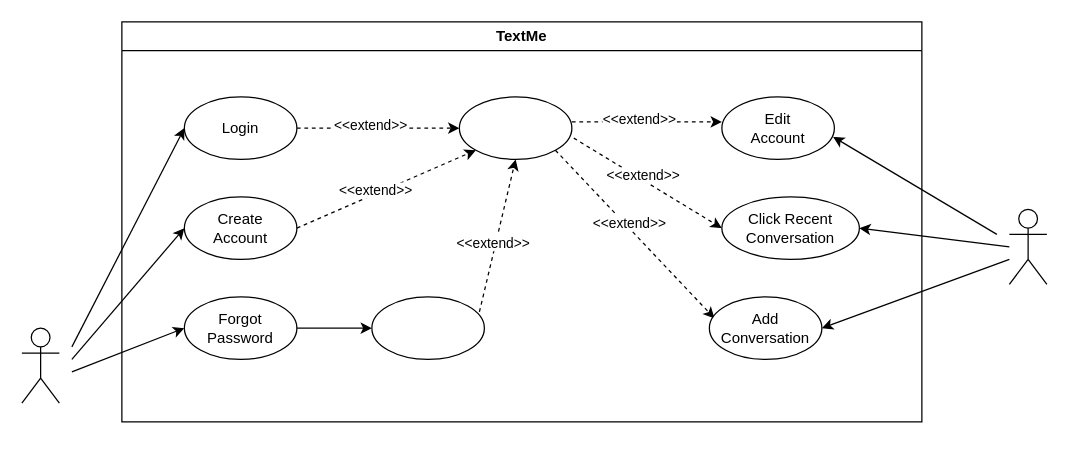
Image size: 1081x451. Some labels were removed from this diagram. Each missing label, with the box of its shape:
Confirm PIN: (371, 296, 484, 359)
Database: (1008, 208, 1047, 284)
Main Screen: (458, 96, 572, 159)
User: (21, 327, 59, 403)
